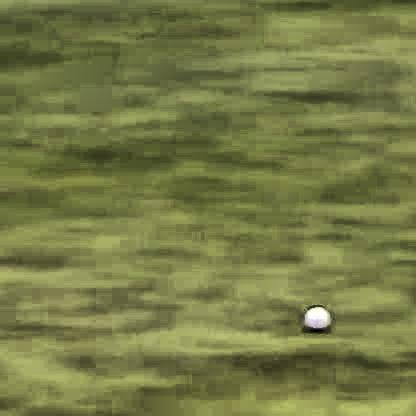golfball: (300, 302, 328, 327)
